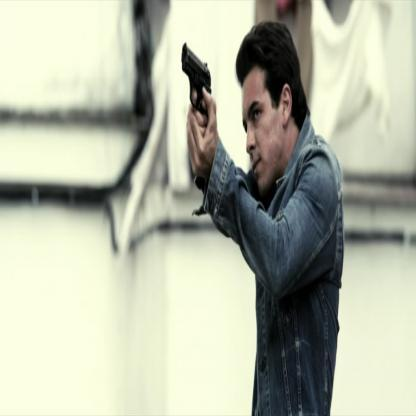gun: (176, 13, 218, 127)
